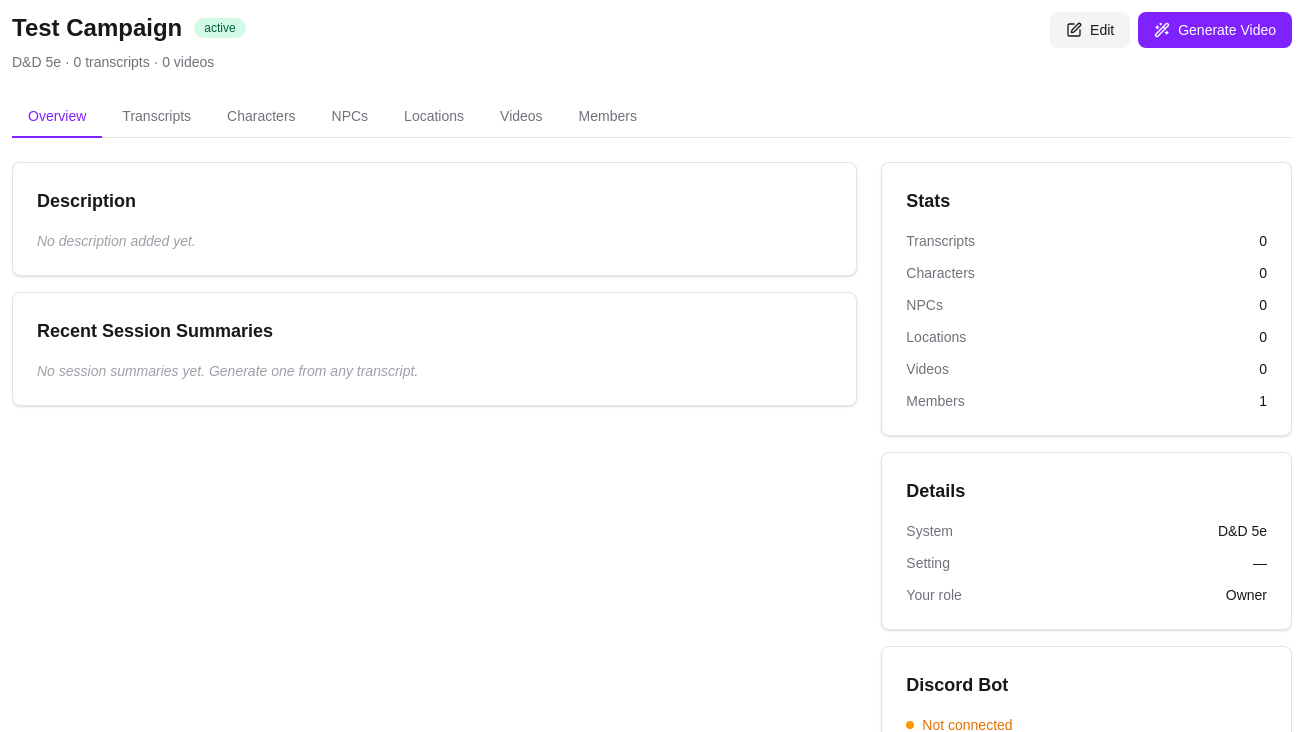
CampaignDetailTabs — tab content › shows empty state on NPCs tab when no NPCs exist
What coordinates should you click on to do the following:
click the button "NPCs"
I would click on:
 (350, 117)
Its box is [316, 96, 384, 138].
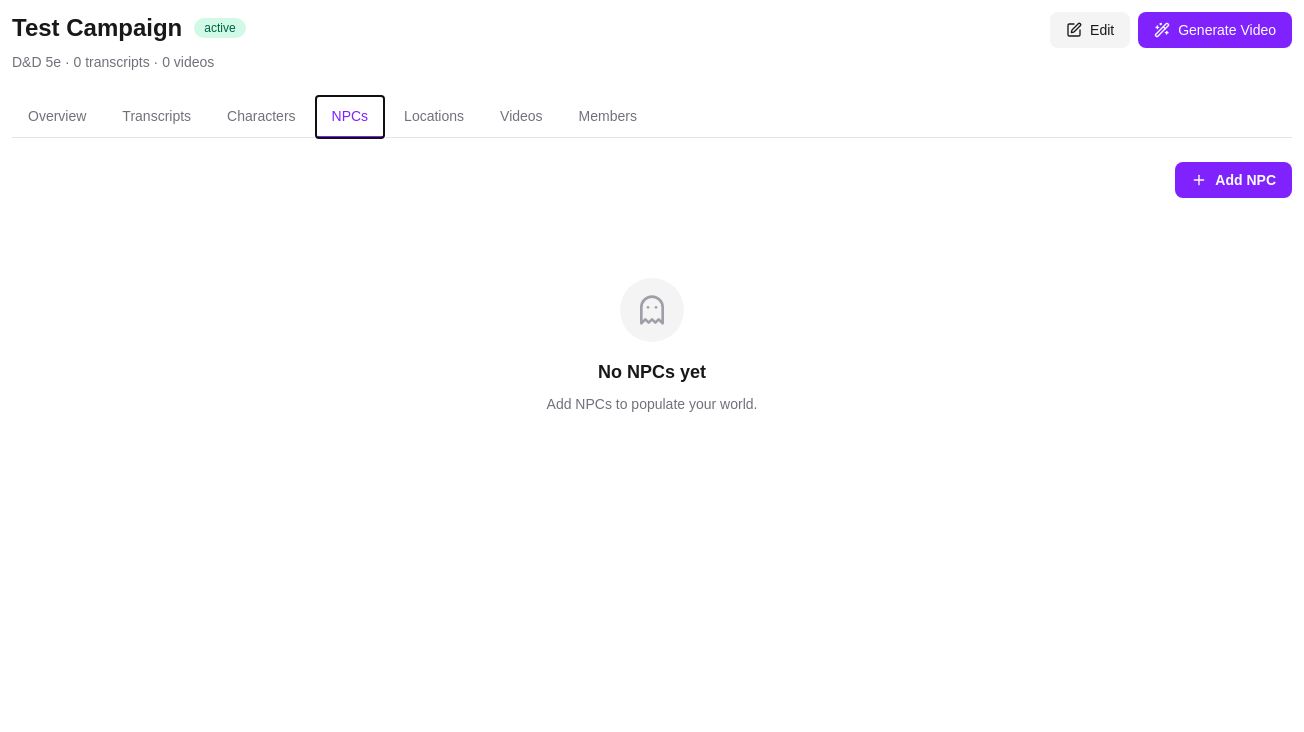
Check: the heading "No NPCs yet" is shown, box [598, 358, 706, 386]
